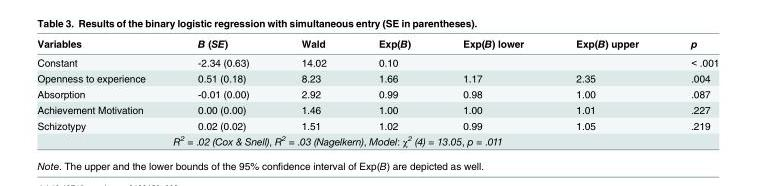table: (36, 36, 718, 147)
table column: (36, 36, 170, 147), (549, 36, 664, 147), (436, 36, 549, 147), (170, 36, 274, 147), (351, 36, 436, 147), (274, 36, 351, 147), (664, 36, 718, 147)
table column header: (36, 36, 718, 52)
table row: (36, 52, 718, 70), (36, 36, 718, 52), (36, 85, 718, 101), (36, 101, 718, 117), (36, 70, 718, 85), (36, 117, 718, 132), (36, 132, 718, 147)
table spanning cell: (36, 132, 664, 147)
